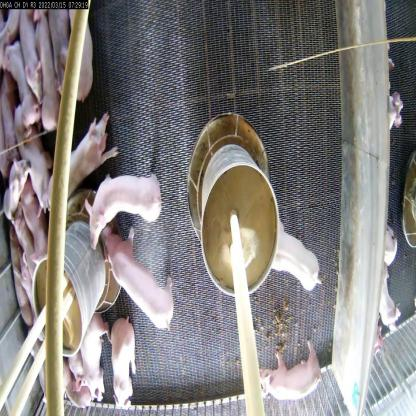Pig: (99, 222, 184, 334), (49, 112, 110, 211), (88, 160, 155, 239), (260, 212, 326, 288), (259, 342, 320, 411), (63, 319, 107, 409), (31, 17, 64, 131), (106, 321, 145, 415), (17, 176, 54, 272), (16, 109, 50, 212), (15, 10, 43, 99)
